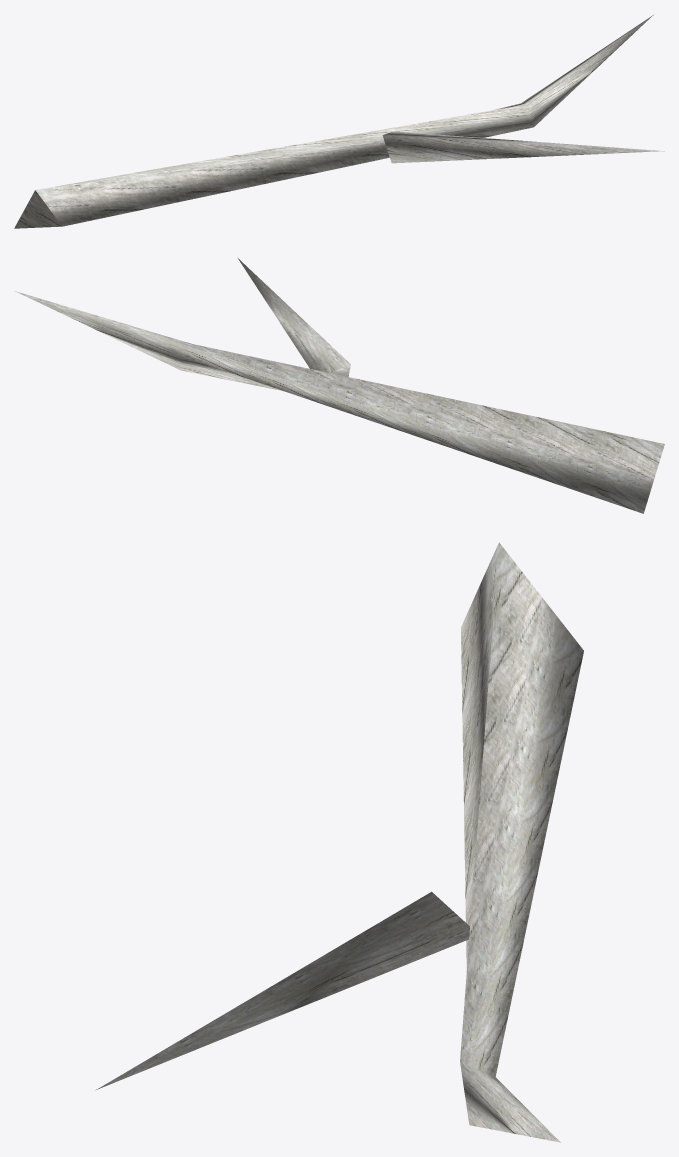
The model's file is shor_driftwood_a1_l3.fbx.
3 renders of one model, top to bottom at view 1: azimuth 30°, elevation 25°; view 2: azimuth 150°, elevation 25°; view 3: azimuth 270°, elevation 25°, orthographic. The views are drawn at different scales.
Parts seen in each view (by area): view 1: mesh_node; view 2: mesh_node; view 3: mesh_node.
Boxes of the visible parts, box(x1,y1,x2,y2) form: mesh_node: box(14, 15, 664, 228); mesh_node: box(15, 258, 664, 513); mesh_node: box(95, 542, 583, 1142).
Size of the model in its own units: 6.77 by 0.6501 by 2.26.
